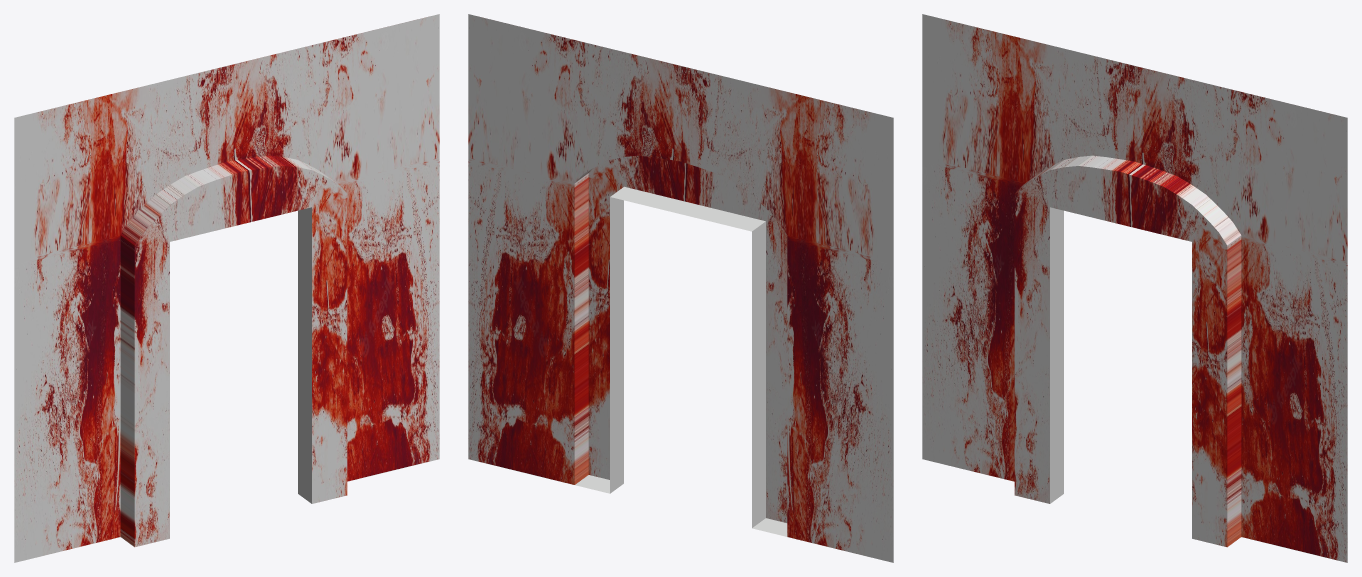
File: Marco_11.fbx
3 renders of one model, left to right at view 1: azimuth 30°, elevation 25°; view 2: azimuth 150°, elevation 25°; view 3: azimuth 330°, elevation 25°, orthographic.
Parts seen in each view (by area): view 1: Plane.021; view 2: Plane.021; view 3: Plane.021.
Part boxes in pixels (x1,y1,x2,y2): Plane.021: (14, 14, 439, 562); Plane.021: (468, 14, 893, 562); Plane.021: (922, 14, 1347, 562).
Size of the model in its own units: 600 by 600 by 34.34.
